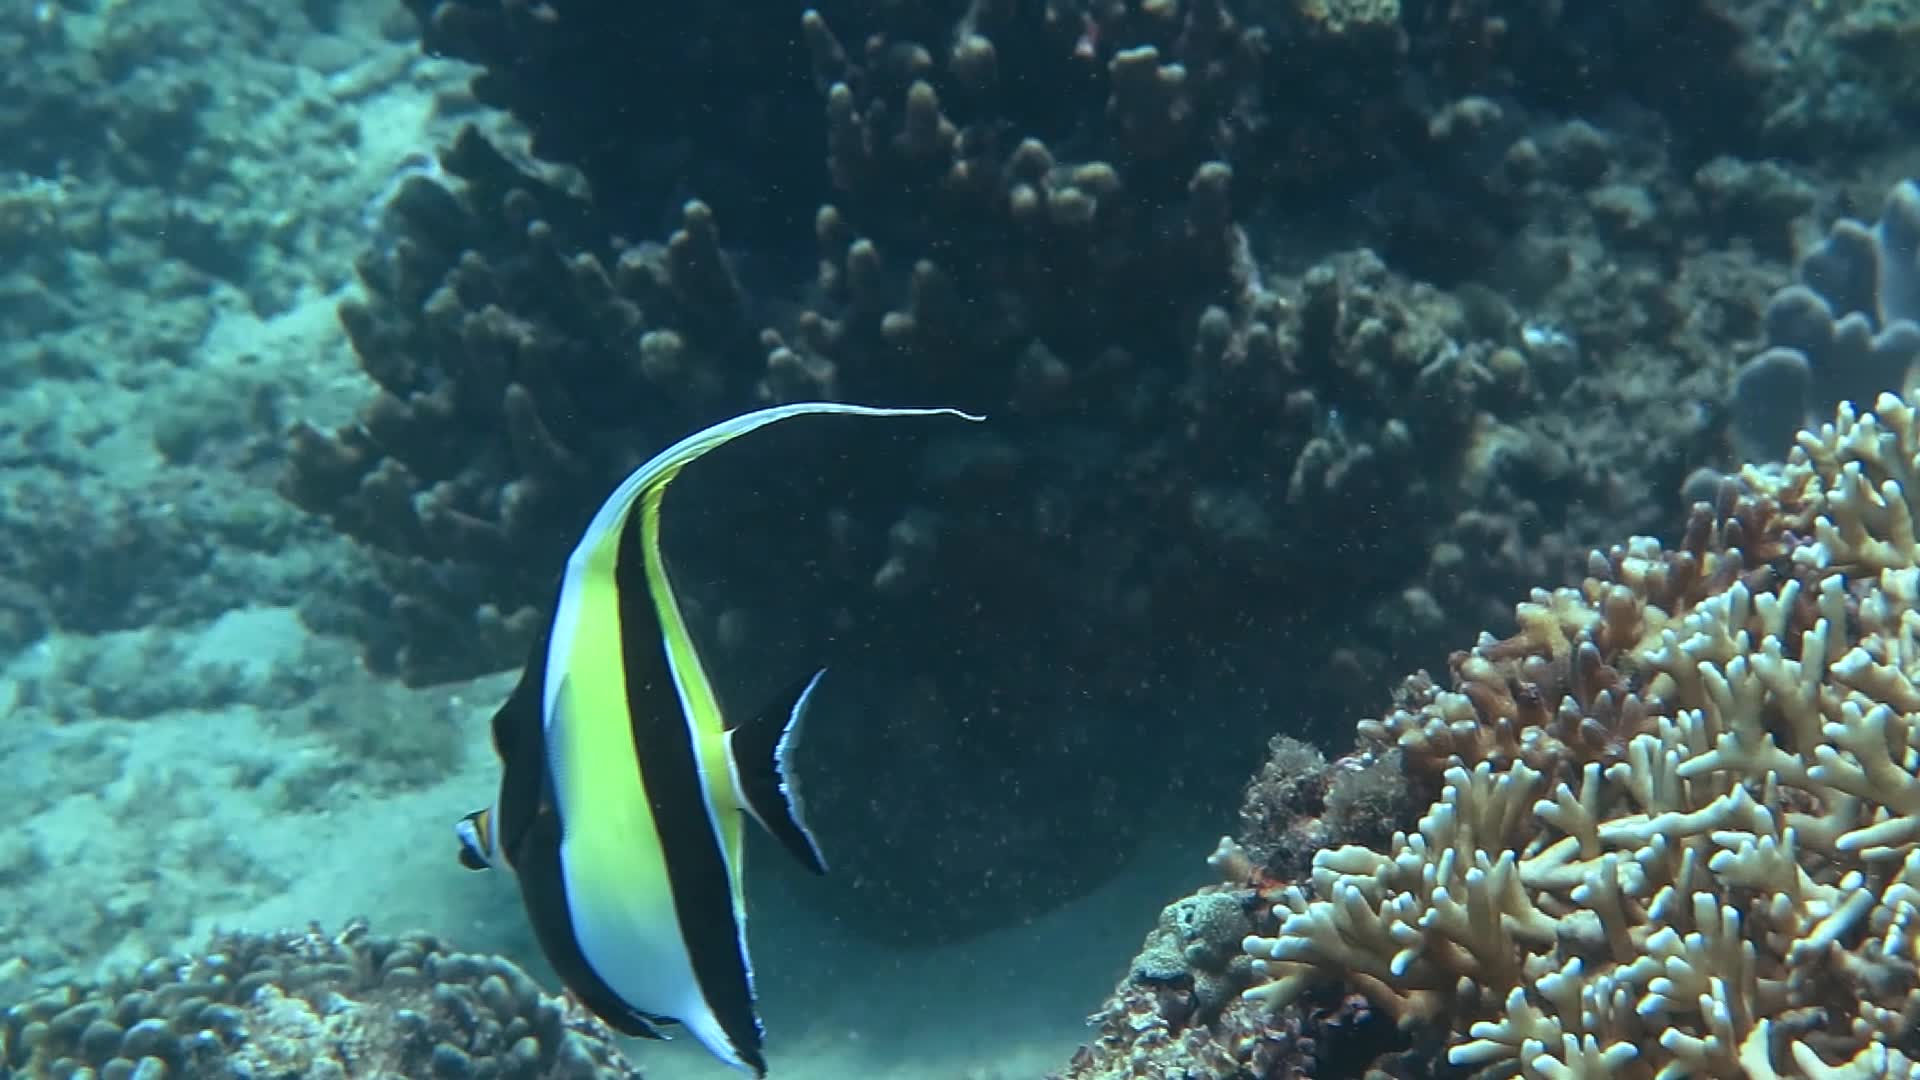Zanclus cornutus: (458, 385, 839, 1080)
